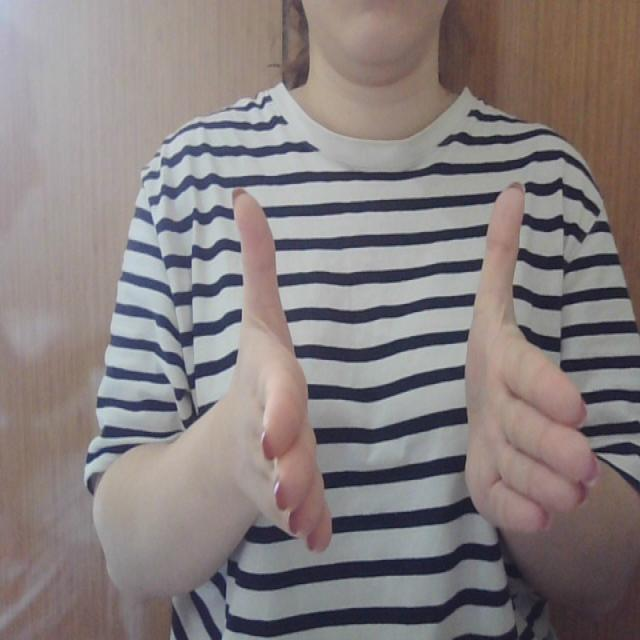Nasil: (227, 177, 602, 565)
